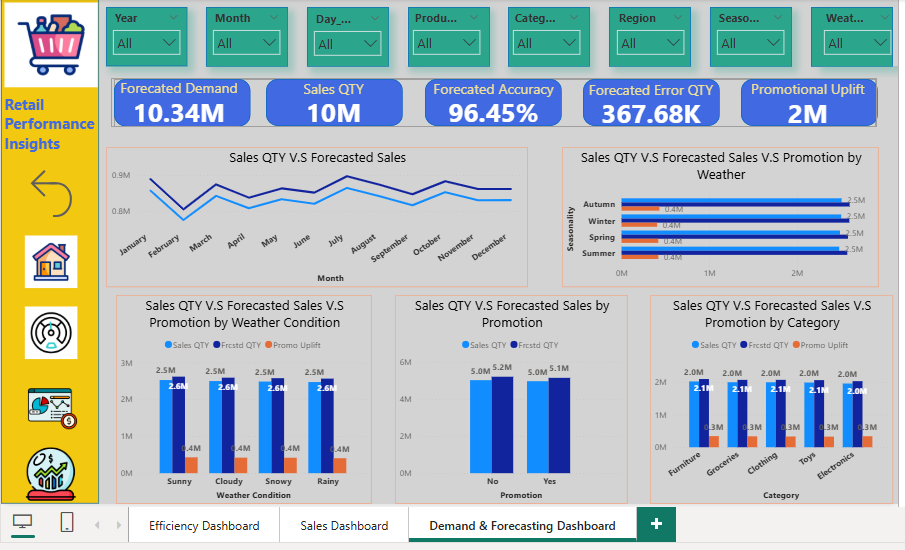

What the dashboard file says about the page in this screenshot:
{"tool":"powerbi","page":{"name":"Demand & Forecasting Dashboard","canvas":[1280,720],"ordinal":2},"visuals":[{"type":"shape","box":[0,0,139.9,720],"z":0,"group":"g7"},{"type":"slicer","fields":{"Values":["Calender.Year"]},"box":[149.8,11.4,115.6,84.2],"z":0,"group":"g3"},{"type":"group","id":"g1","title":"Slicer-Shape-S","box":[150.1,11.4,1122.7,85.8],"z":0,"group":"g2"},{"type":"shape","box":[150.1,11.4,116.2,84.6],"z":0,"group":"g1"},{"type":"card","title":"Forecated Demand","fields":{"Values":["Sum(retail_store_inventory.Demand Forecast)"]},"box":[156.6,112.9,194,68.1],"z":0,"group":"g6"},{"type":"shape","box":[161.5,114.5,194.9,67.9],"z":0,"group":"g4"},{"type":"group","id":"g2","title":"Slicer-S","box":[149.8,11.4,1130.2,85.6],"z":1000},{"type":"group","id":"g3","title":"Slicer-Slicer-S","box":[149.8,11.4,1130.2,85.8],"z":1000,"group":"g2"},{"type":"shape","box":[293.1,11.5,117,85.2],"z":1000,"group":"g1"},{"type":"slicer","fields":{"Values":["Calender.Day_Name"]},"box":[436.2,13.2,116.2,84],"z":1000,"group":"g3"},{"type":"card","title":"Sales QTY","fields":{"Values":["Sum(retail_store_inventory.Units Sold)"]},"box":[377.6,114.3,193,67.6],"z":1000,"group":"g6"},{"type":"group","id":"g4","title":"KPI-Shape-S","box":[161.5,114.5,1088.7,67.9],"z":1000,"group":"g5"},{"type":"shape","box":[378,114.9,195.5,67.1],"z":1000,"group":"g4"},{"type":"image","box":[0,332.2,142.2,84.9],"z":1000,"group":"g7"},{"type":"slicer","fields":{"Values":["Calender.Month"]},"box":[293.2,11.4,116.2,84],"z":2000,"group":"g3"},{"type":"shape","box":[436.9,11.5,117,85.2],"z":2000,"group":"g1"},{"type":"card","title":"Forecated Accuracy","fields":{"Values":["Measure_Table.Forecast Accuracy"]},"box":[604.4,114.3,195.4,67.6],"z":2000,"group":"g6"},{"type":"shape","box":[604.9,114.9,195.5,67.1],"z":2000,"group":"g4"},{"type":"textbox","box":[0,130.2,143.8,104.9],"z":2000,"group":"g7"},{"type":"image","box":[0,0,142.9,131.2],"z":3000,"group":"g7"},{"type":"slicer","fields":{"Values":["retail_store_inventory.Weather Condition"]},"box":[1163.8,11.4,116.2,84],"z":3000,"group":"g3"},{"type":"shape","box":[580.6,11.5,117,85.2],"z":3000,"group":"g1"},{"type":"shape","box":[830.4,114.9,195.5,67.1],"z":3000,"group":"g4"},{"type":"card","title":"Forecated Error QTY","fields":{"Values":["Measure_Table.Forecast Error Qty"]},"box":[828.8,115.5,196.6,67.6],"z":3000,"group":"g6"},{"type":"slicer","fields":{"Values":["retail_store_inventory.Product ID"]},"box":[577.4,11.4,116.2,84],"z":4000,"group":"g3"},{"type":"shape","box":[724.4,11.5,117,85.2],"z":4000,"group":"g1"},{"type":"card","title":"Promotional Uplift","fields":{"Values":["Sum(retail_store_inventory.Promotion Uplift)"]},"box":[1053.2,114.3,196.6,68.8],"z":4000,"group":"g6"},{"type":"shape","box":[1055.8,114.9,195.5,67.1],"z":4000,"group":"g4"},{"type":"image","box":[0,634.5,142.9,85.5],"z":4000,"group":"g7"},{"type":"slicer","fields":{"Values":["retail_store_inventory.Category"]},"box":[720.4,11.4,116.2,84],"z":5000,"group":"g3"},{"type":"shape","box":[868.2,11.5,117,85.2],"z":5000,"group":"g1"},{"type":"image","box":[0,541.8,147.2,84.9],"z":5000,"group":"g7"},{"type":"slicer","fields":{"Values":["retail_store_inventory.Region"]},"box":[868.8,11.4,116.2,84],"z":6000,"group":"g3"},{"type":"shape","box":[1011.9,11.5,117,85.2],"z":6000,"group":"g1"},{"type":"image","box":[0,433.4,142.2,84.9],"z":6000,"group":"g7"},{"type":"slicer","fields":{"Values":["retail_store_inventory.Seasonality"]},"box":[1011.8,11.4,116.2,84],"z":7000,"group":"g3"},{"type":"shape","box":[1155.7,11.5,117,85.2],"z":7000,"group":"g1"},{"type":"clusteredColumnChart","title":"Sales QTY V.S Forecasted Sales V.S Promotion by Weather Condition","fields":{"Category":["retail_store_inventory.Weather Condition"],"Y":["Measure_Table.Total Sales QTY","Sum(retail_store_inventory.Demand Forecast)","Sum(retail_store_inventory.Promotion Uplift)"]},"box":[164.1,422.4,365.3,298.2],"z":7000},{"type":"clusteredColumnChart","title":"Sales QTY V.S Forecasted Sales by Promotion","fields":{"Y":["Measure_Table.Total Sales QTY","Sum(retail_store_inventory.Demand Forecast)"],"Category":["retail_store_inventory.Promotion"]},"box":[561.5,422.4,332.5,298.2],"z":8000},{"type":"lineChart","title":"Sales QTY V.S Forecasted Sales ","fields":{"Category":["Calender.Date.Variation.Date Hierarchy.Month"],"Y":["Measure_Table.Total Sales QTY","Sum(retail_store_inventory.Demand Forecast)"]},"box":[149.8,211.2,602.2,199.8],"z":9000},{"type":"clusteredColumnChart","title":"Sales QTY V.S Forecasted Sales V.S Promotion by Category","fields":{"Y":["Measure_Table.Total Sales QTY","Sum(retail_store_inventory.Demand Forecast)","Sum(retail_store_inventory.Promotion Uplift)"],"Category":["retail_store_inventory.Category"]},"box":[926.1,422.4,346.8,298.2],"z":10000},{"type":"clusteredBarChart","title":"Sales QTY V.S Forecasted Sales V.S Promotion by Weather","fields":{"Y":["Measure_Table.Total Sales QTY","Sum(retail_store_inventory.Demand Forecast)","Sum(retail_store_inventory.Promotion Uplift)"],"Category":["retail_store_inventory.Seasonality"]},"box":[800.5,211.2,452.4,199.8],"z":11000},{"type":"group","id":"g5","title":"KPI-S","box":[156.6,112.9,1092.5,69.2],"z":12000},{"type":"group","id":"g6","title":"KPI-Card-S","box":[156.6,112.9,1093.3,70.2],"z":13000,"group":"g5"},{"type":"actionButton","box":[30,235.2,141.5,84.1],"z":13000,"group":"g7"},{"type":"group","id":"g7","title":"Side Bar-F","box":[0,0,171.5,720],"z":13002}]}

Visuals, with their boxes on the page's 1280x720 design canvas (x1, y1, x2, y2). These are canvas units, not pixel positions in the 905x550 screenshot, which may show the page scaled, cropped or inside an application window:
shape: <region>0, 0, 140, 720</region>
slicer - Calender.Year: <region>150, 11, 265, 96</region>
"Slicer-Shape-S" group: <region>150, 11, 1273, 97</region>
shape: <region>150, 11, 266, 96</region>
"Forecated Demand" card: <region>157, 113, 351, 181</region>
shape: <region>162, 114, 356, 182</region>
"Slicer-S" group: <region>150, 11, 1280, 97</region>
"Slicer-Slicer-S" group: <region>150, 11, 1280, 97</region>
shape: <region>293, 12, 410, 97</region>
slicer - Calender.Day_Name: <region>436, 13, 552, 97</region>
"Sales QTY" card: <region>378, 114, 571, 182</region>
"KPI-Shape-S" group: <region>162, 114, 1250, 182</region>
shape: <region>378, 115, 574, 182</region>
image: <region>0, 332, 142, 417</region>
slicer - Calender.Month: <region>293, 11, 409, 95</region>
shape: <region>437, 12, 554, 97</region>
"Forecated Accuracy" card: <region>604, 114, 800, 182</region>
shape: <region>605, 115, 800, 182</region>
textbox: <region>0, 130, 144, 235</region>
image: <region>0, 0, 143, 131</region>
slicer - retail_store_inventory.Weather Condition: <region>1164, 11, 1280, 95</region>
shape: <region>581, 12, 698, 97</region>
shape: <region>830, 115, 1026, 182</region>
"Forecated Error QTY" card: <region>829, 116, 1025, 183</region>
slicer - retail_store_inventory.Product ID: <region>577, 11, 694, 95</region>
shape: <region>724, 12, 841, 97</region>
"Promotional Uplift" card: <region>1053, 114, 1250, 183</region>
shape: <region>1056, 115, 1251, 182</region>
image: <region>0, 634, 143, 720</region>
slicer - retail_store_inventory.Category: <region>720, 11, 837, 95</region>
shape: <region>868, 12, 985, 97</region>
image: <region>0, 542, 147, 627</region>
slicer - retail_store_inventory.Region: <region>869, 11, 985, 95</region>
shape: <region>1012, 12, 1129, 97</region>
image: <region>0, 433, 142, 518</region>
slicer - retail_store_inventory.Seasonality: <region>1012, 11, 1128, 95</region>
shape: <region>1156, 12, 1273, 97</region>
"Sales QTY V.S Forecasted Sales V.S Promotion by Weather Condition" clusteredColumnChart: <region>164, 422, 529, 721</region>
"Sales QTY V.S Forecasted Sales by Promotion" clusteredColumnChart: <region>562, 422, 894, 721</region>
"Sales QTY V.S Forecasted Sales " lineChart: <region>150, 211, 752, 411</region>
"Sales QTY V.S Forecasted Sales V.S Promotion by Category" clusteredColumnChart: <region>926, 422, 1273, 721</region>
"Sales QTY V.S Forecasted Sales V.S Promotion by Weather" clusteredBarChart: <region>800, 211, 1253, 411</region>
"KPI-S" group: <region>157, 113, 1249, 182</region>
"KPI-Card-S" group: <region>157, 113, 1250, 183</region>
actionButton: <region>30, 235, 172, 319</region>
"Side Bar-F" group: <region>0, 0, 172, 720</region>
